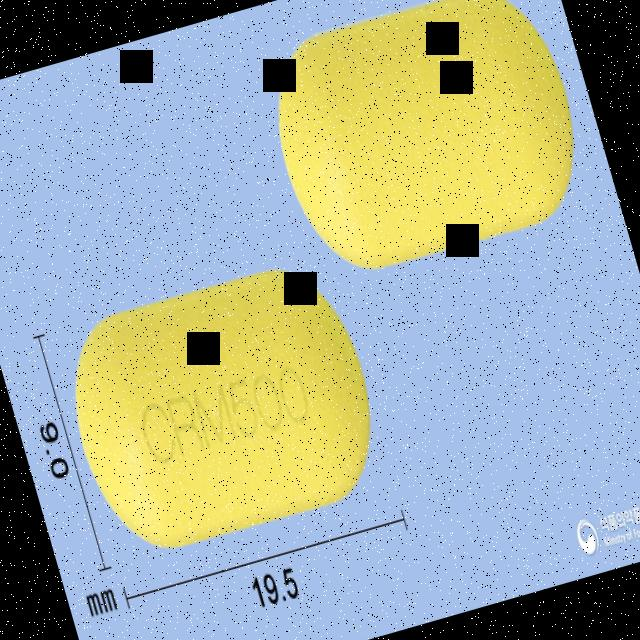Crama: (48, 249, 396, 564)
